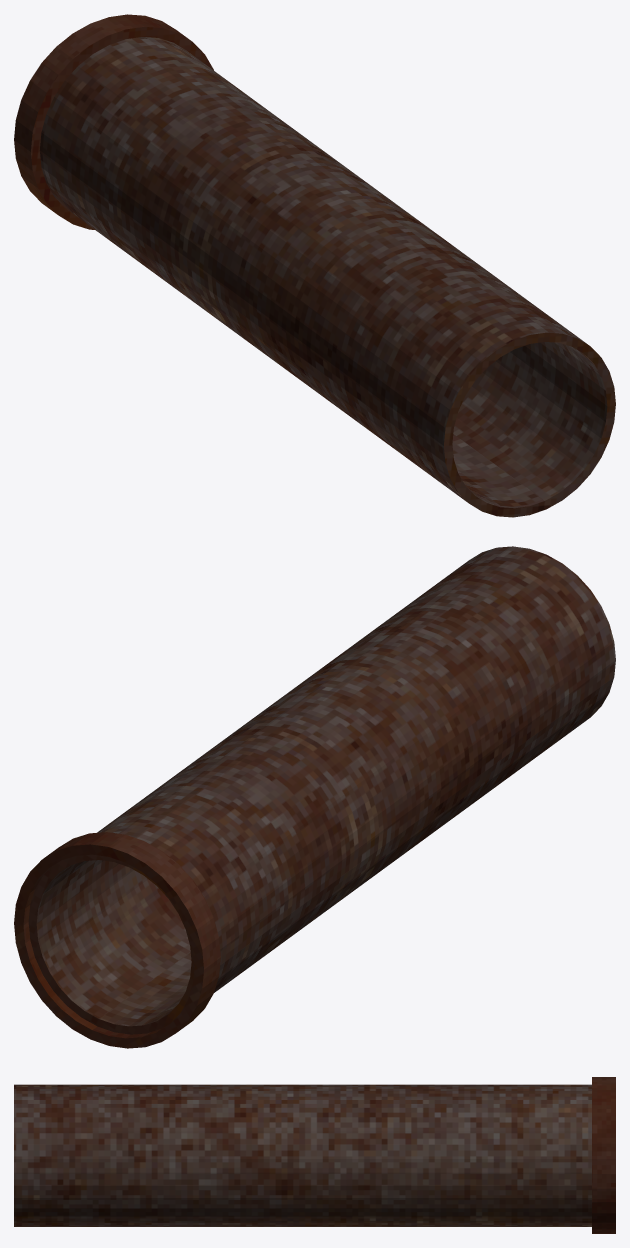
File: pipe_long.fbx
3 views of the same model, one above another, from view 1: azimuth 30°, elevation 25°; view 2: azimuth 150°, elevation 25°; view 3: azimuth 270°, elevation 25° (orthographic). The views are drawn at different scales.
Visible parts, largest first — view 1: pipe_long; view 2: pipe_long; view 3: pipe_long.
Part boxes in pixels (x1,y1,x2,y2): pipe_long: (14,14,615,517); pipe_long: (14,546,615,1048); pipe_long: (14,1077,615,1233).
Bounding box in the file's own units: 221 × 221 × 847.
